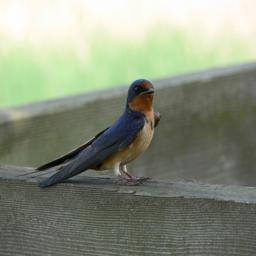Swallow: (14, 76, 162, 191)
